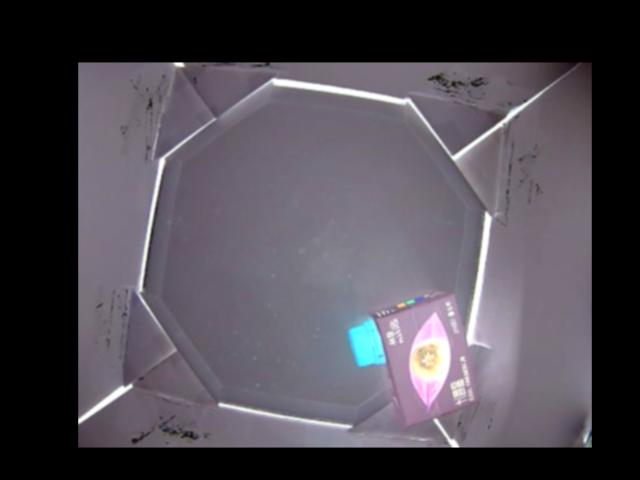Bottle: (349, 288, 478, 429)
